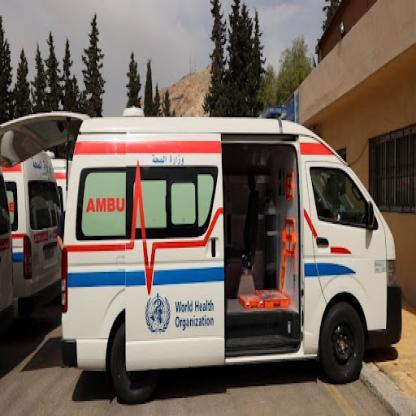Ambulance - v1 Ambulance last generate: (48, 119, 410, 397)
